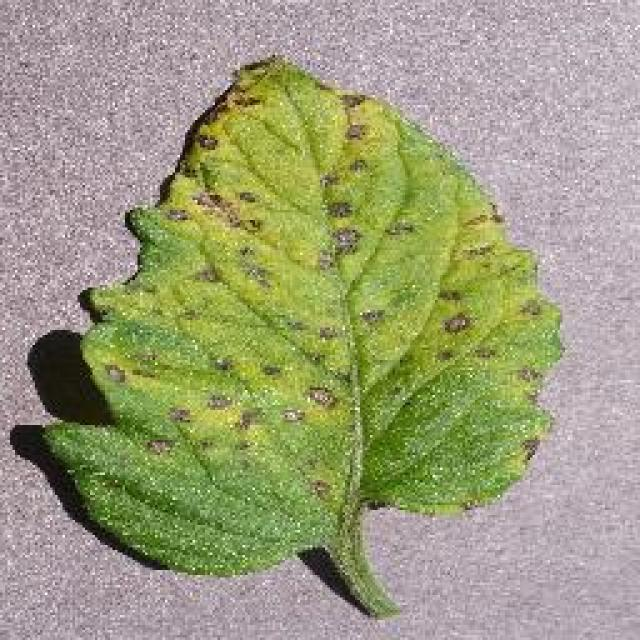Tom_Septoria_leaf_spot: (164, 80, 394, 294), (105, 324, 359, 485), (438, 201, 538, 411)
